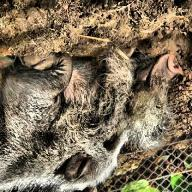boar: (0, 41, 192, 192)
